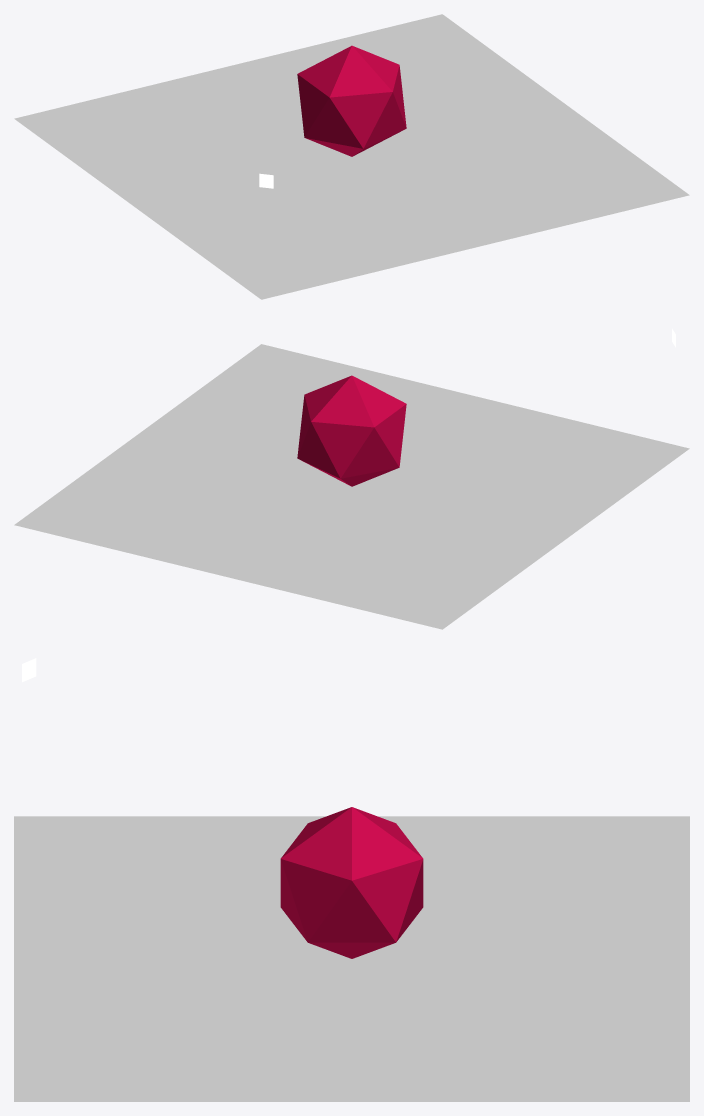
Rendered from small_light.glb.
3 renders of one model, top to bottom at view 1: azimuth 30°, elevation 25°; view 2: azimuth 150°, elevation 25°; view 3: azimuth 270°, elevation 25°, orthographic. The views are drawn at different scales.
Parts seen in each view (by area): view 1: Plane, Icosphere; view 2: Plane, Icosphere; view 3: Plane, Icosphere.
Boxes of the visible parts, bbox=[...] form: Plane: bbox=[14, 14, 689, 299]; Icosphere: bbox=[297, 45, 406, 156]; Plane: bbox=[14, 344, 689, 629]; Icosphere: bbox=[297, 375, 406, 486]; Plane: bbox=[14, 816, 689, 1101]; Icosphere: bbox=[280, 807, 423, 958].
Size of the model in its own units: 2 by 0.5296 by 2.
